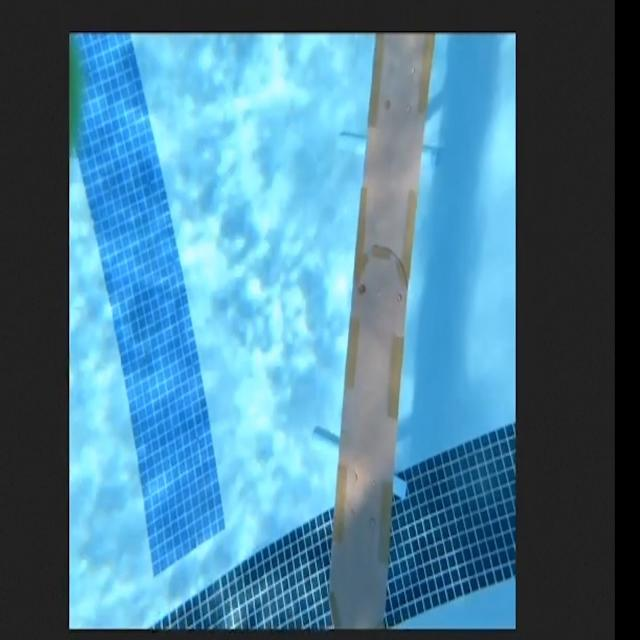Path: (327, 31, 436, 631)
